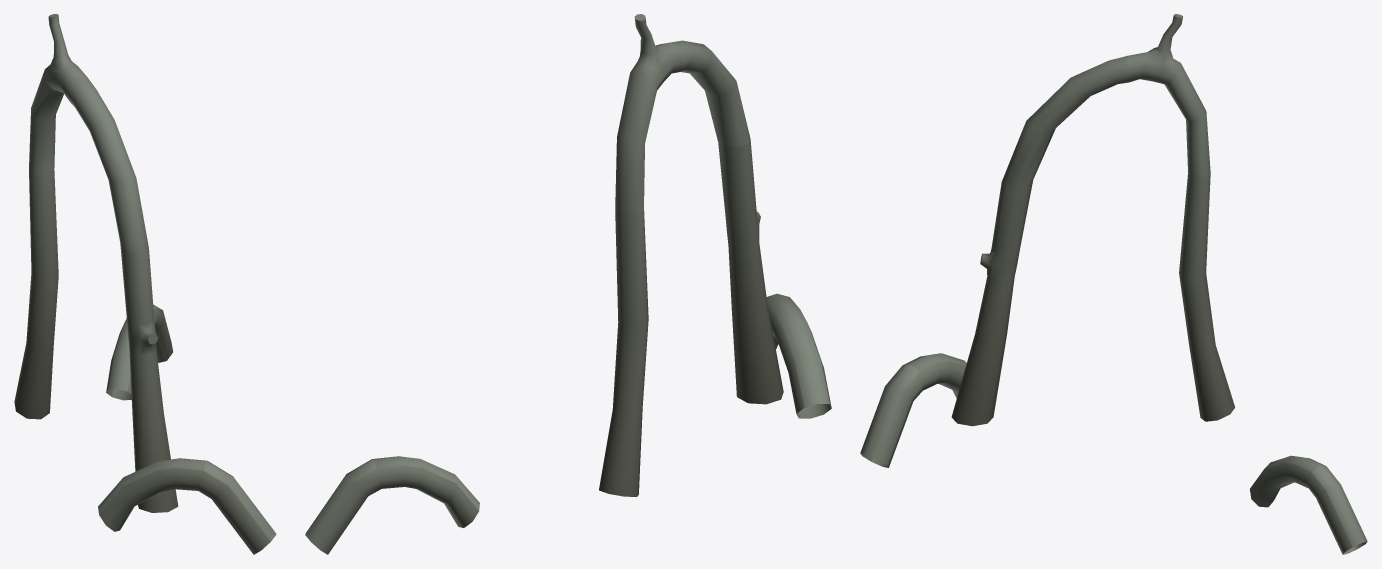
Rendered from Environment_Portal_pathway.fbx.
3 renders of one model, left to right at view 1: azimuth 30°, elevation 25°; view 2: azimuth 150°, elevation 25°; view 3: azimuth 270°, elevation 25°, orthographic. The views are drawn at different scales.
Parts seen in each view (by area): view 1: pCylinder8; view 2: pCylinder8; view 3: pCylinder8.
Part boxes in pixels (left/top/right/bottom): pCylinder8: left=14, top=14, right=276, bottom=554; pCylinder8: left=305, top=14, right=831, bottom=554; pCylinder8: left=860, top=14, right=1367, bottom=554.
Bounding box in the file's own units: 4.8 × 7.83 × 8.03.
